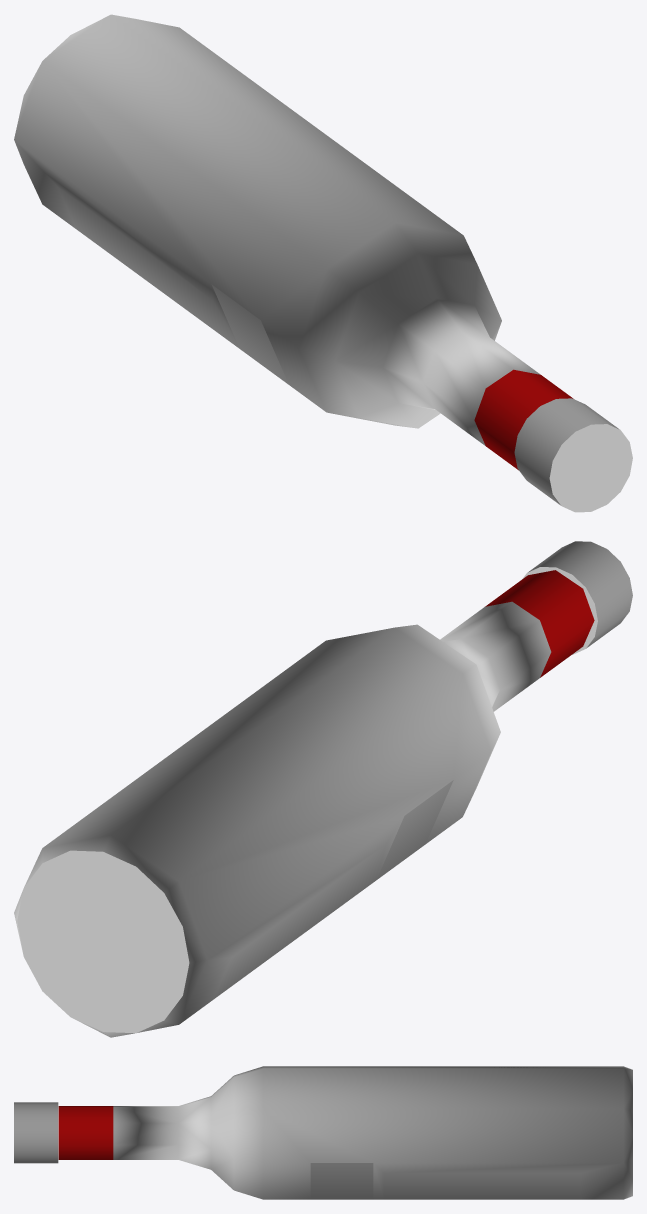
The model's file is model_scale.obj.
The picture shows the model from 3 angles, top to bottom: view 1: azimuth 30°, elevation 25°; view 2: azimuth 150°, elevation 25°; view 3: azimuth 270°, elevation 25°; orthographic projection. The views are drawn at different scales.
Parts seen in each view (by area): view 1: mesh1_mesh1-geometry, mesh2_mesh2-geometry; view 2: mesh1_mesh1-geometry, mesh2_mesh2-geometry; view 3: mesh1_mesh1-geometry, mesh2_mesh2-geometry.
Part boxes in pixels (left/top/right/bottom): mesh1_mesh1-geometry: left=14, top=14, right=573, bottom=470; mesh2_mesh2-geometry: left=514, top=398, right=632, bottom=512; mesh1_mesh1-geometry: left=14, top=570, right=594, bottom=1037; mesh2_mesh2-geometry: left=522, top=541, right=632, bottom=654; mesh1_mesh1-geometry: left=58, top=1066, right=632, bottom=1199; mesh2_mesh2-geometry: left=14, top=1102, right=58, bottom=1163.
Size of the model in its own units: 0.0562 by 0.0562 by 0.2453.
